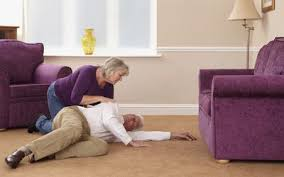falling: (8, 104, 200, 167)
